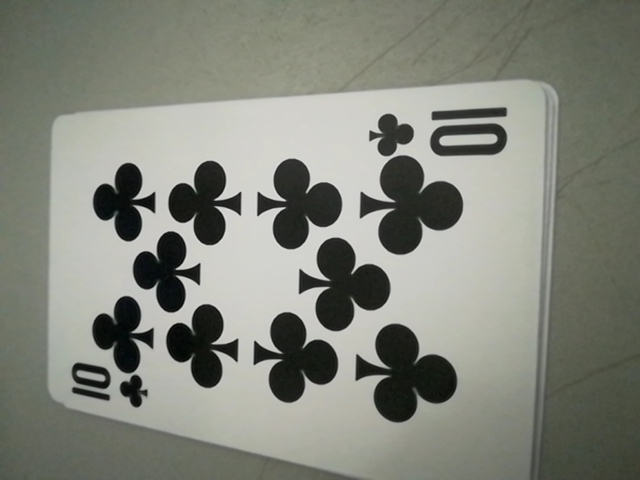mh 10: (367, 98, 517, 160), (62, 362, 152, 416)
